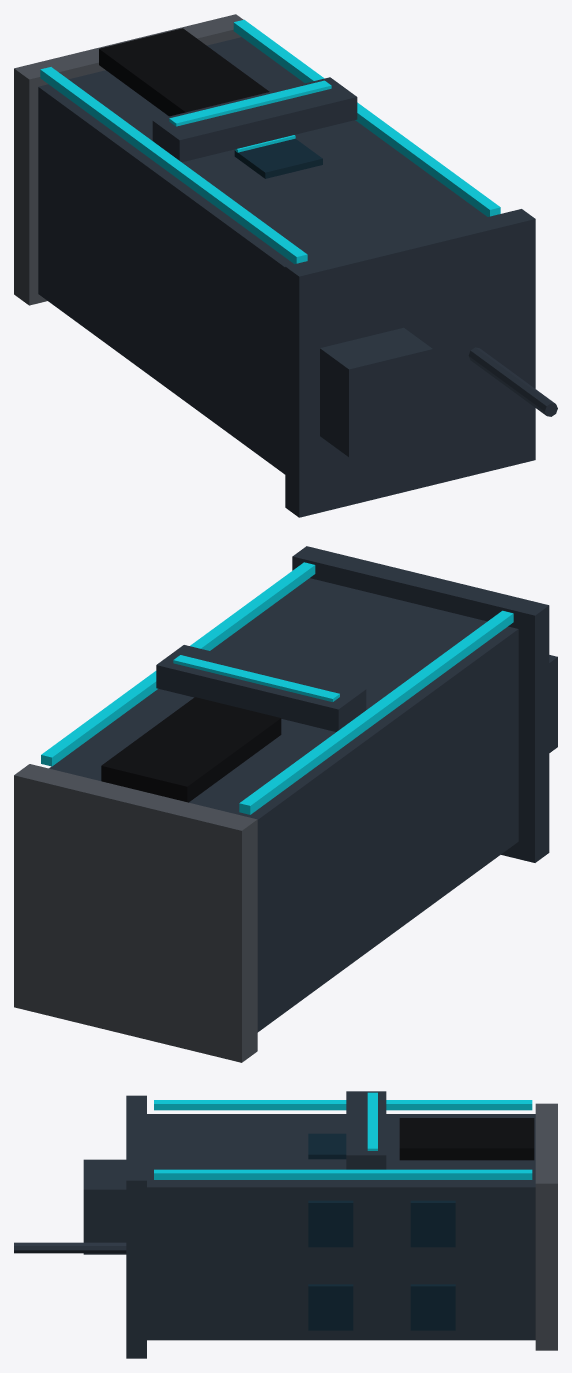
The model's file is ENV_building_north.obj.
3 views of the same model, one above another, from view 1: azimuth 30°, elevation 25°; view 2: azimuth 150°, elevation 25°; view 3: azimuth 270°, elevation 25° (orthographic). The views are drawn at different scales.
Parts seen in each view (by area): view 1: ENV_building_north; view 2: ENV_building_north; view 3: ENV_building_north.
Part boxes in pixels (box(x1,y1,x2,y2)): ENV_building_north: box(14, 14, 557, 517); ENV_building_north: box(14, 546, 557, 1062); ENV_building_north: box(14, 1091, 557, 1358).
Bounding box in the file's own units: 1.97 × 2.11 × 5.32.
